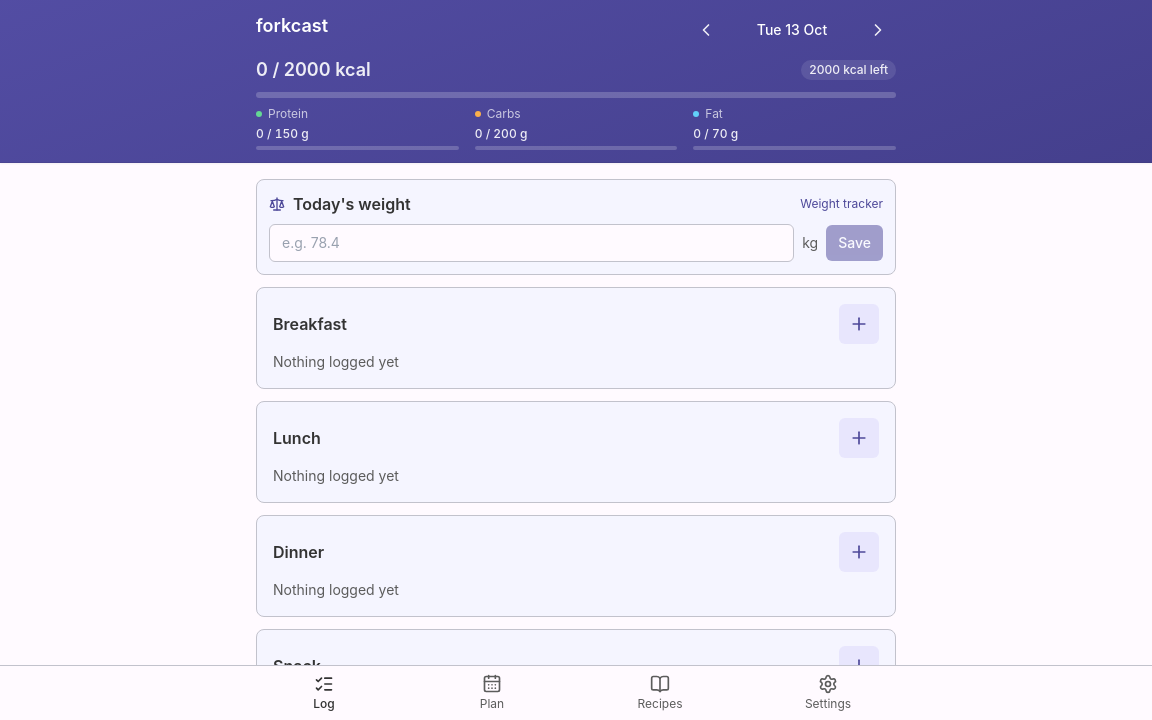
Test: App in English › shows no German UI copy on recipes
Click the button "Recipes" at coordinates (660, 693), box [576,666,744,719]
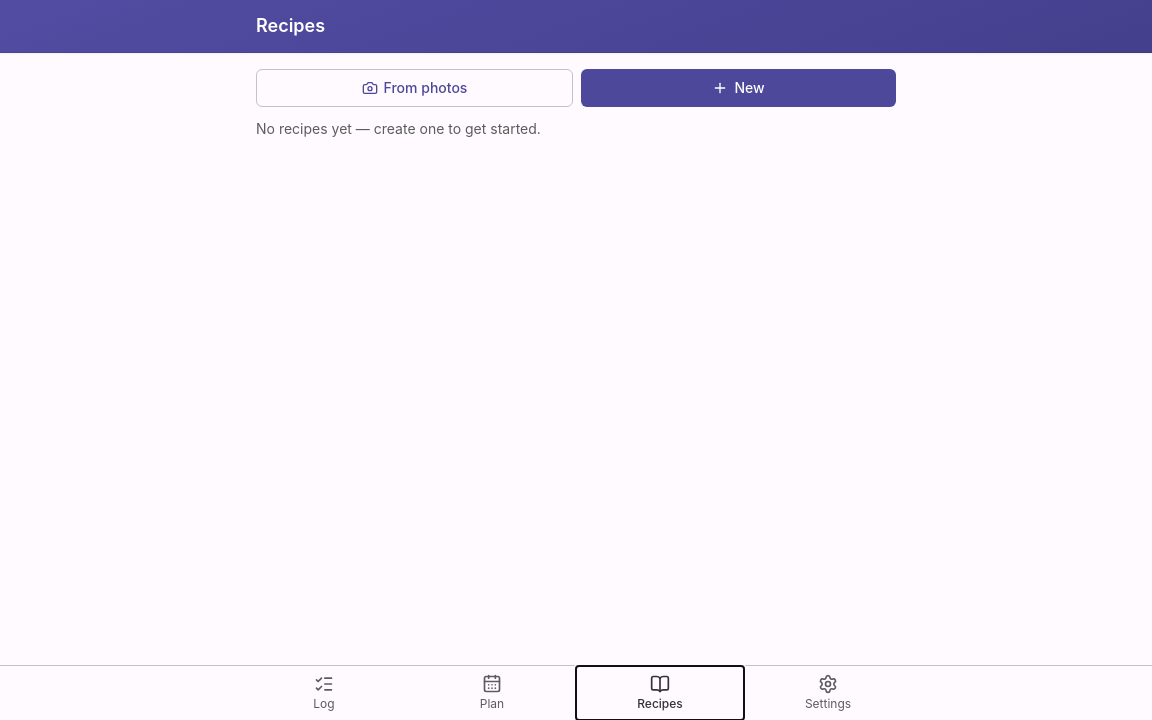
Check: the button with aria-label "New recipe" is shown, box [581,69,896,107]
